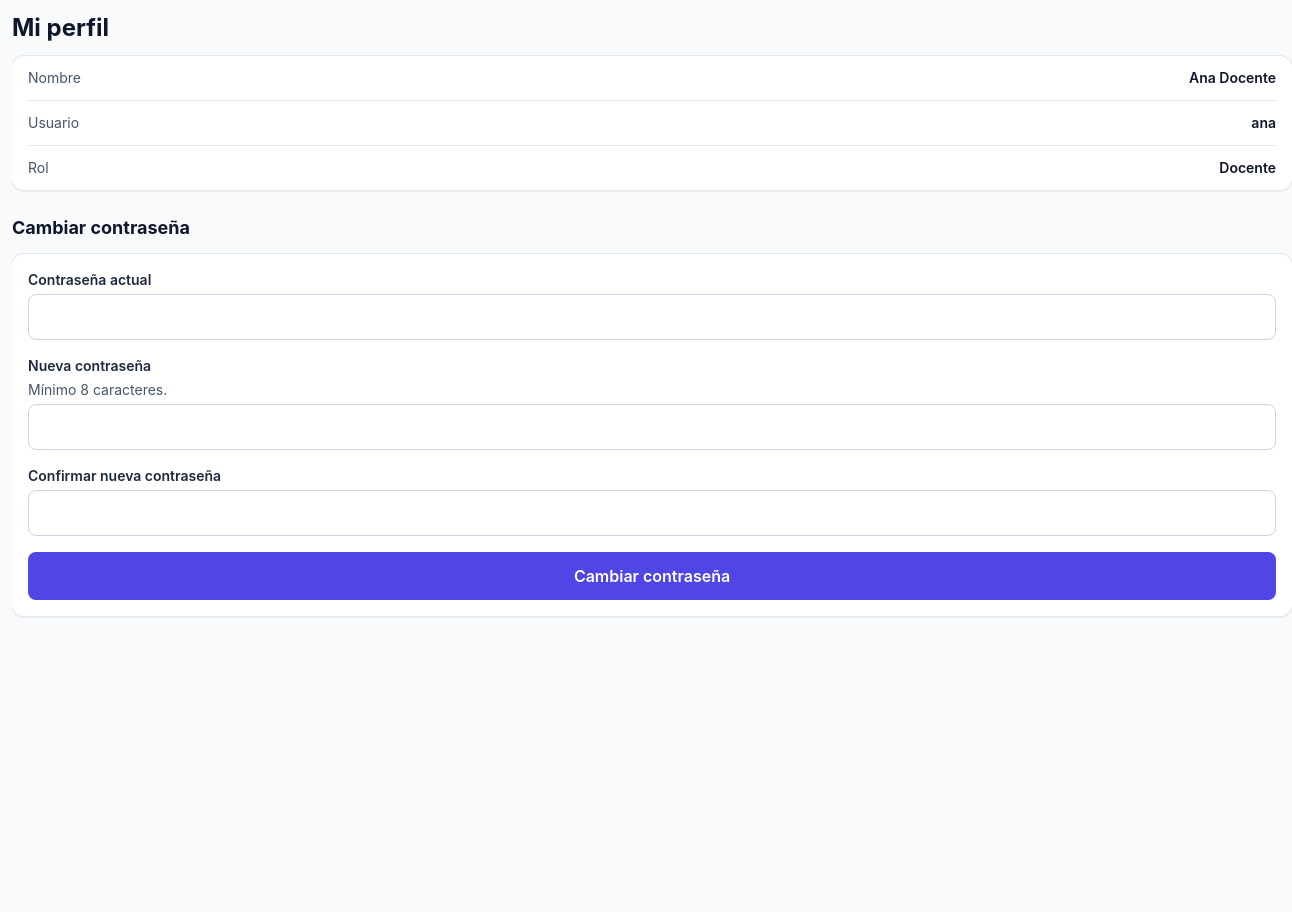
Test: ProfilePage › rejects a new password equal to the current one
Type "secreto123" into the password field labelled "Contraseña actual" at (652, 317), box [28,294,1276,340]
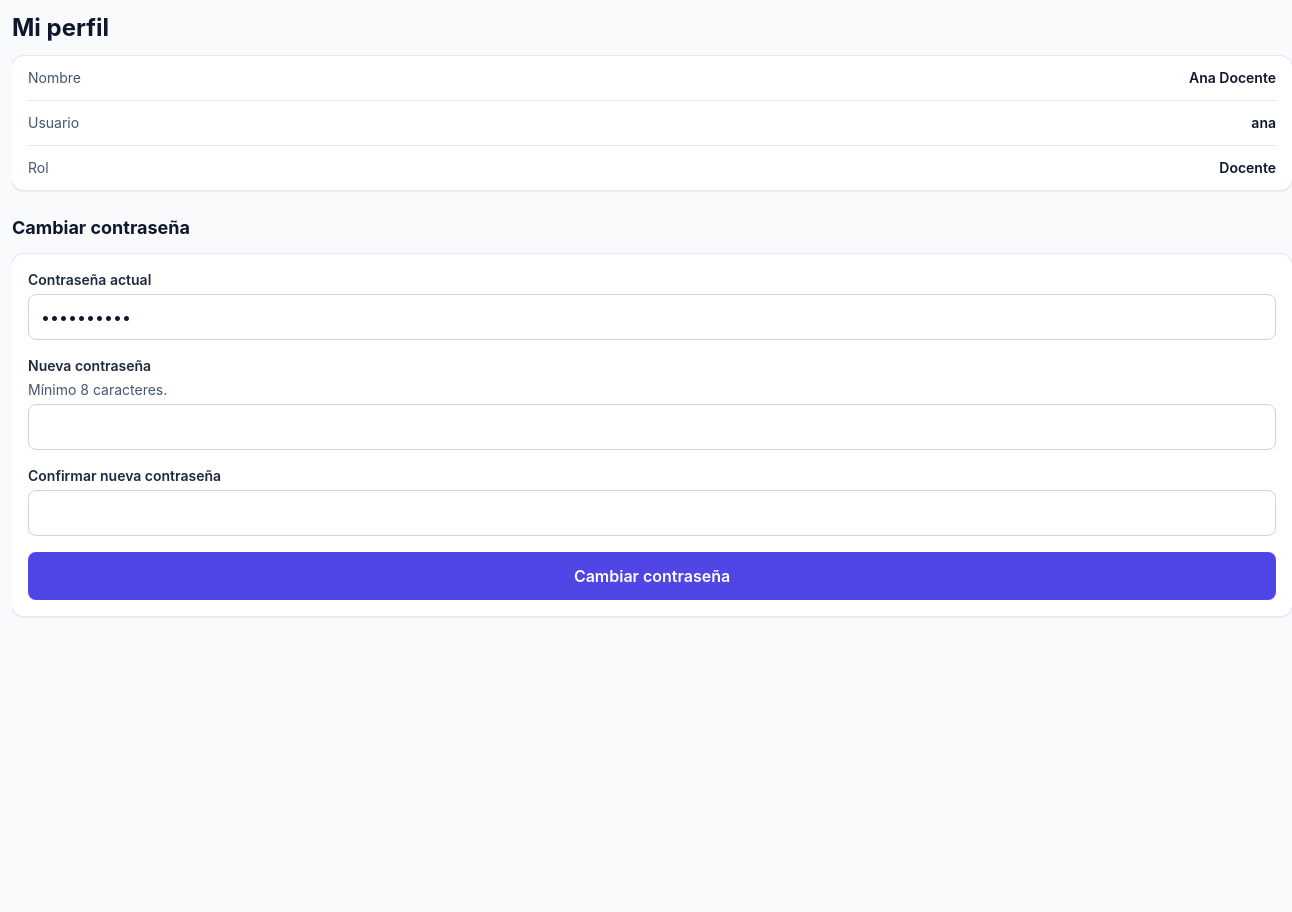
Type "secreto123" into the password field labelled "Nueva contraseña" at (652, 427), box [28,404,1276,450]
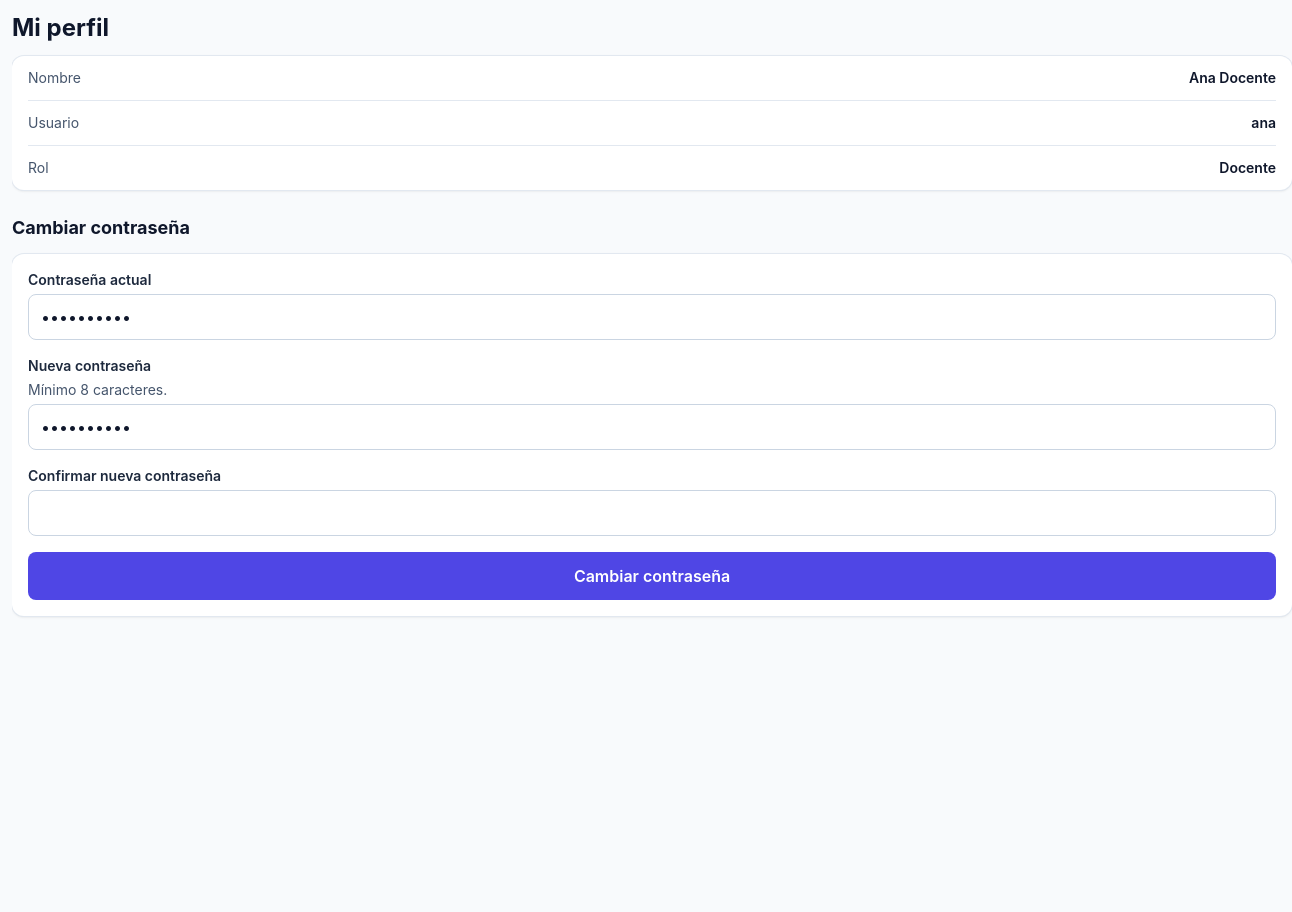
Type "secreto123" into the password field labelled "Confirmar nueva contraseña" at (652, 513), box [28,490,1276,536]
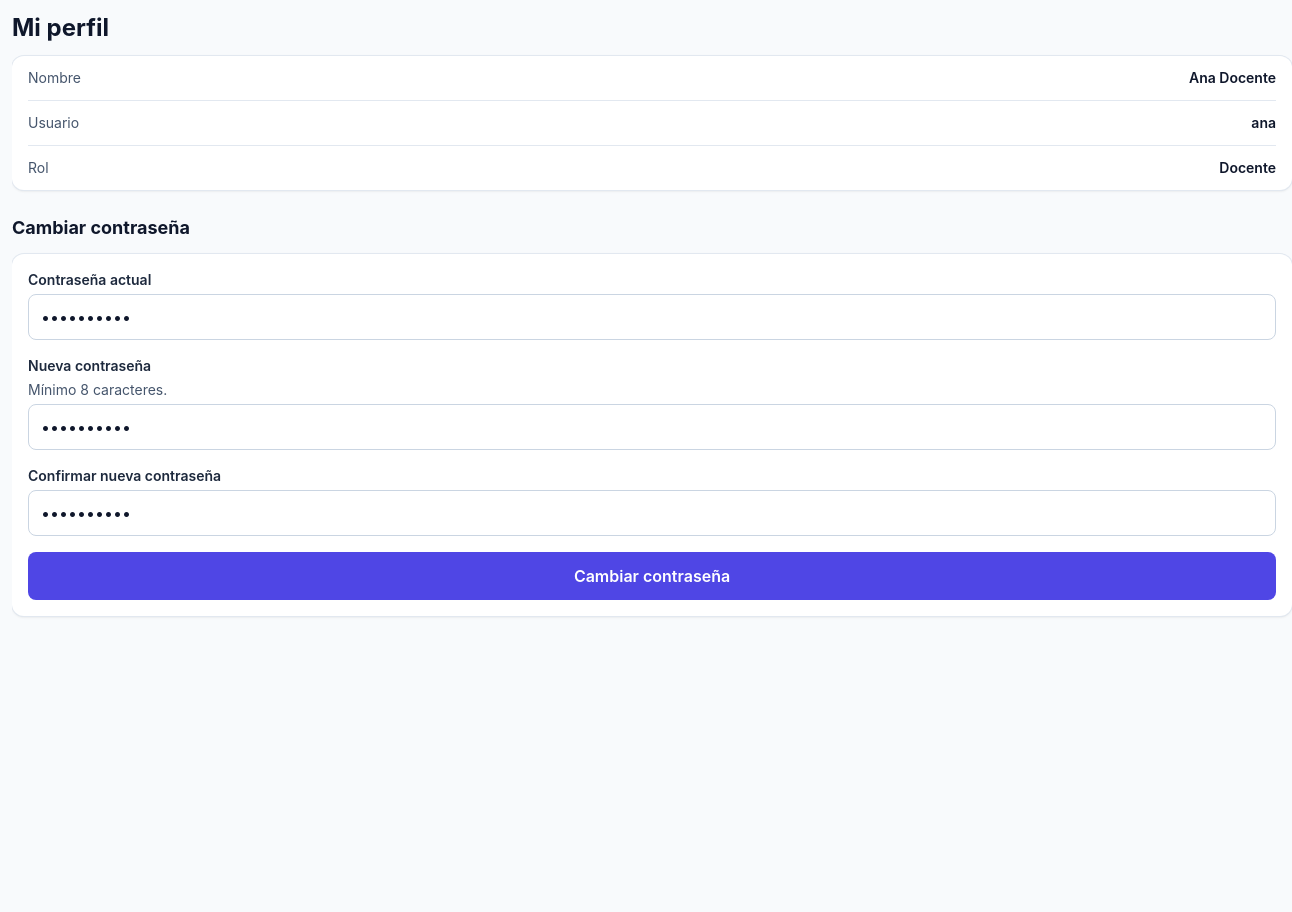
Click the button "Cambiar contraseña" at (652, 576), box [28,552,1276,600]
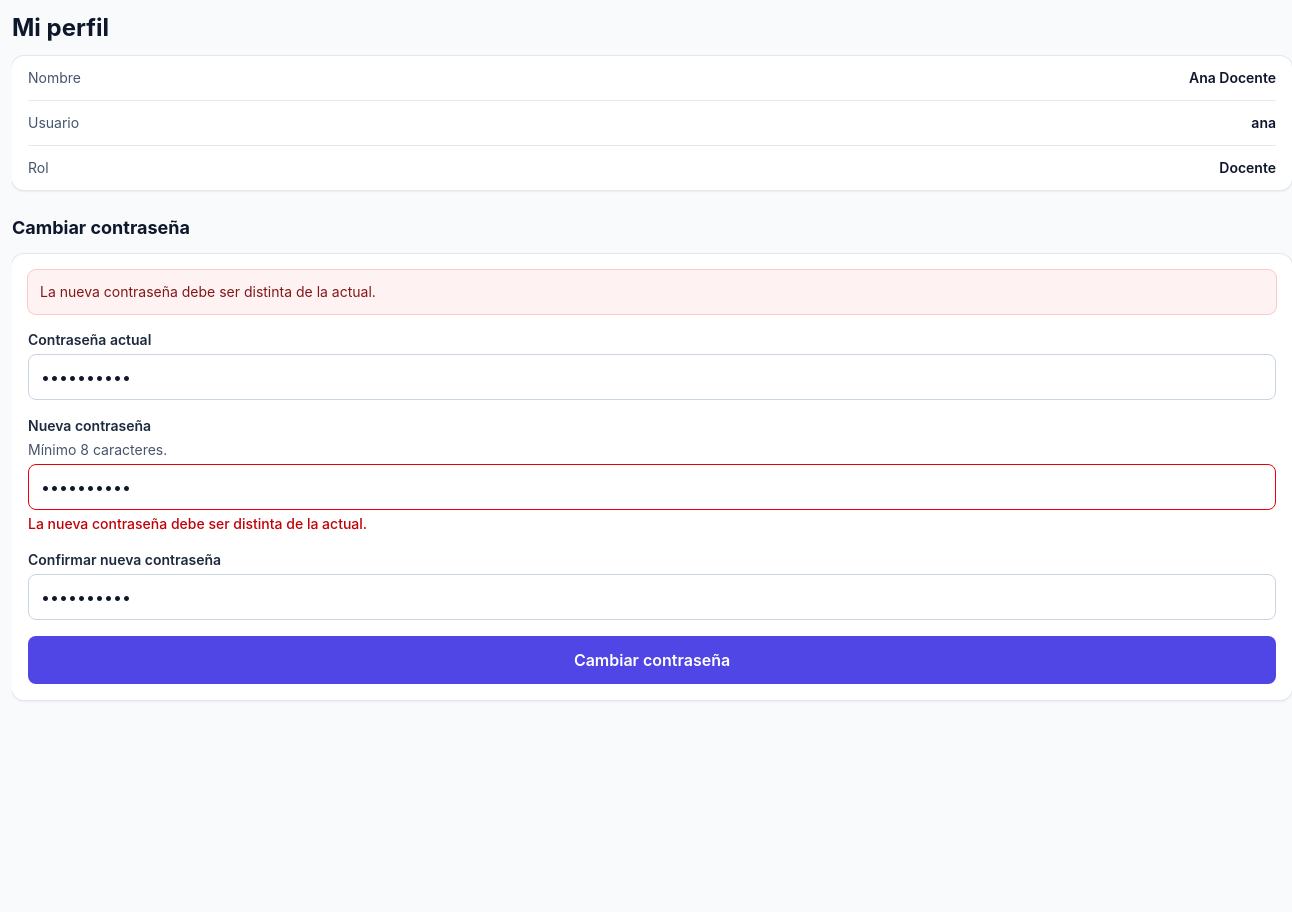
Now the message reads "La nueva contraseña debe ser distinta de la actual.", box [40,283,376,300]
